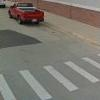Crosswalk: (6, 59, 100, 100)
